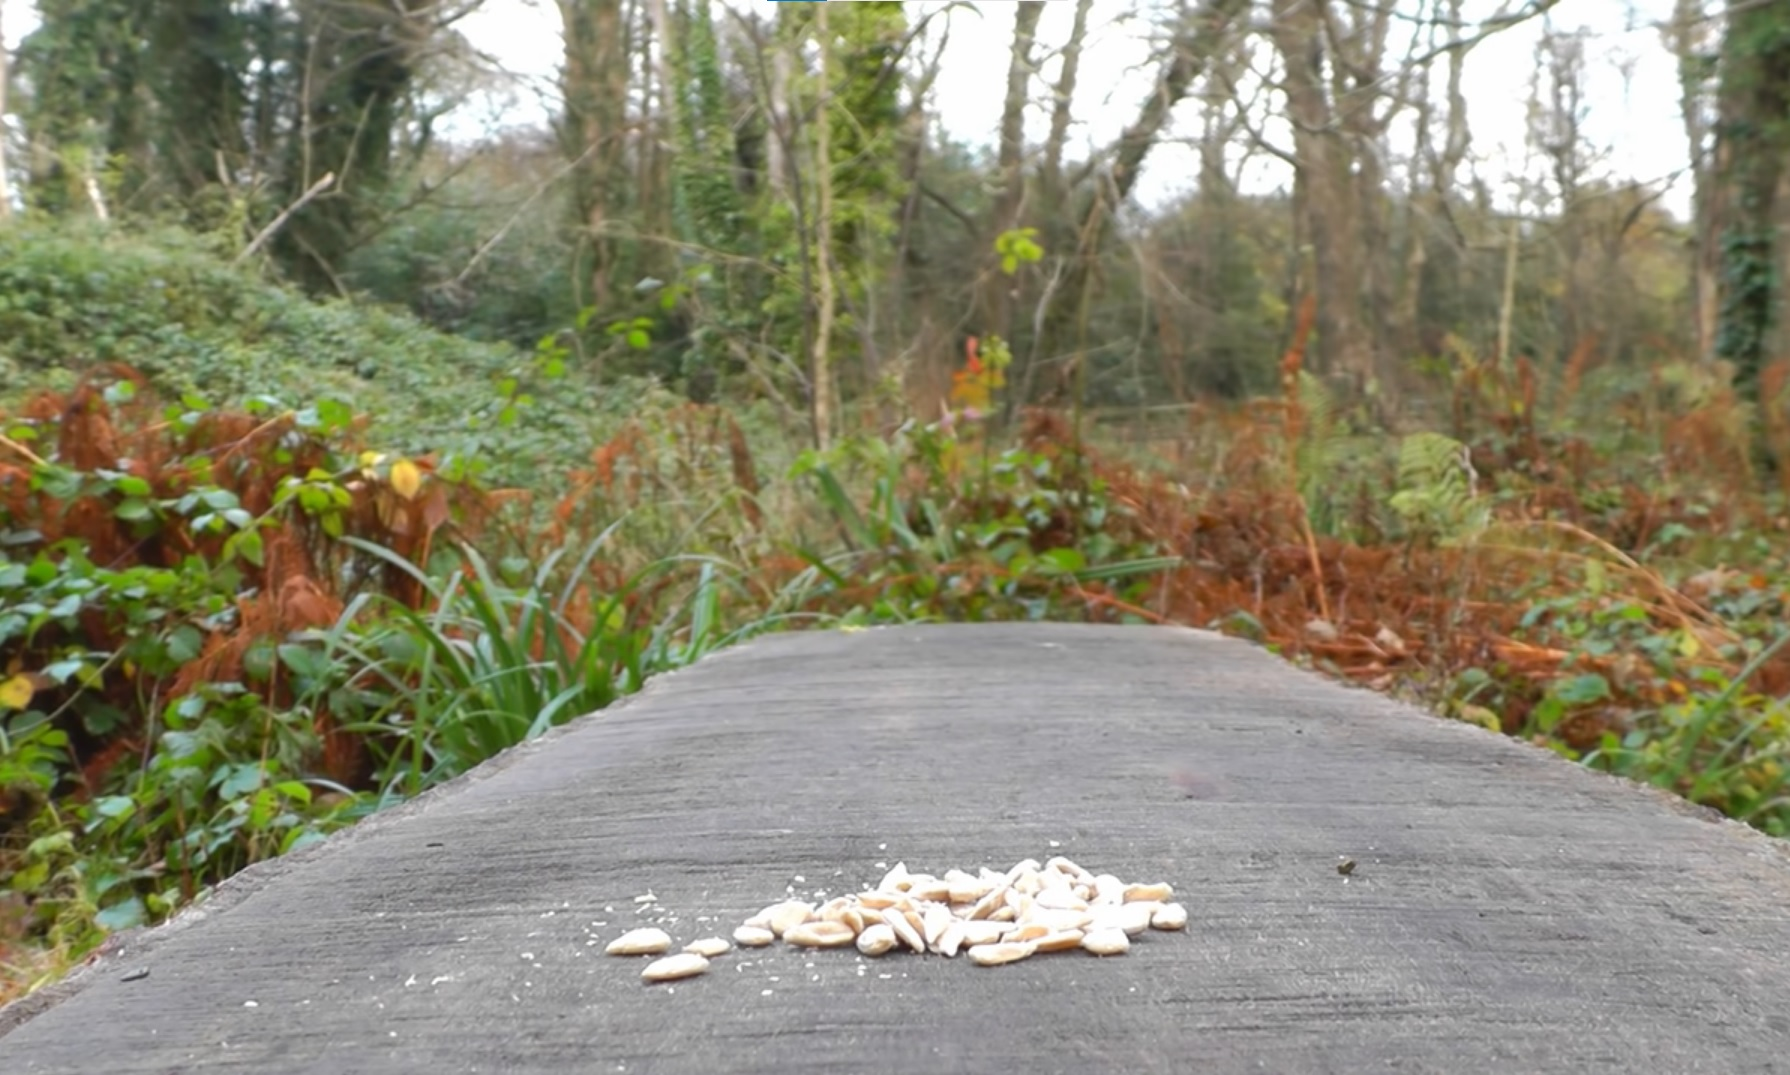seed: (575, 822, 1224, 1017)
